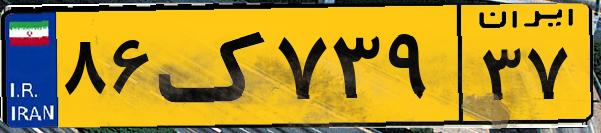3: (330, 28, 385, 110), (475, 38, 525, 113)
6: (110, 28, 158, 98)
7: (270, 28, 330, 110), (525, 38, 570, 115)
8: (57, 26, 110, 100)
9: (385, 28, 445, 110)
ک: (158, 12, 270, 120)
